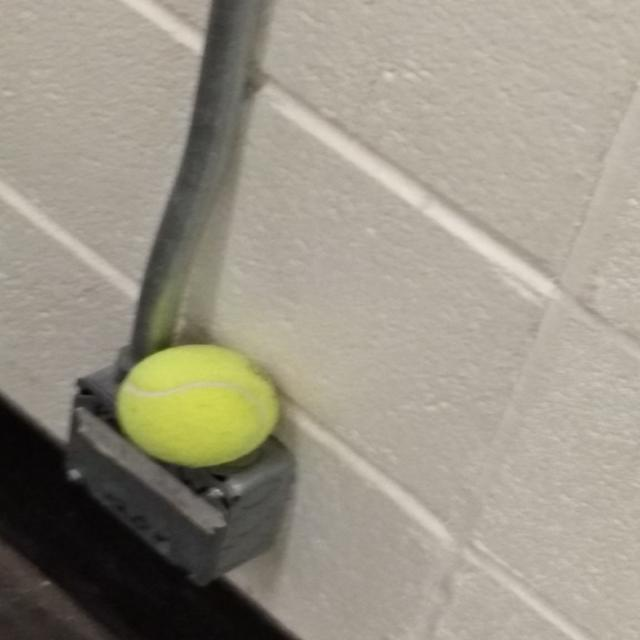Tennis-Ball: (119, 342, 285, 474)
